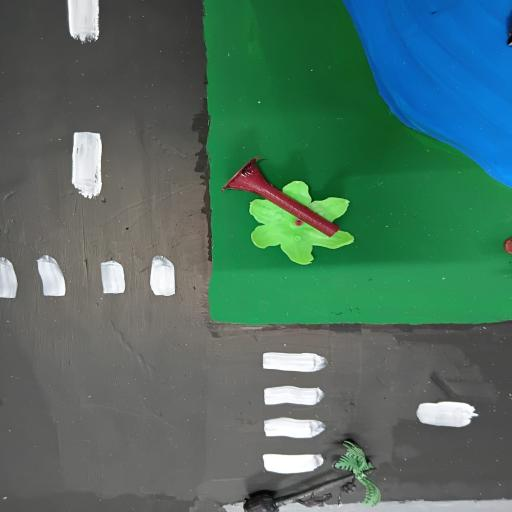fallen trees: (219, 150, 368, 266), (233, 435, 389, 512)
